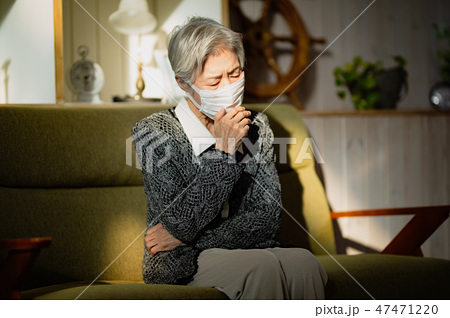mask: (199, 81, 260, 120)
